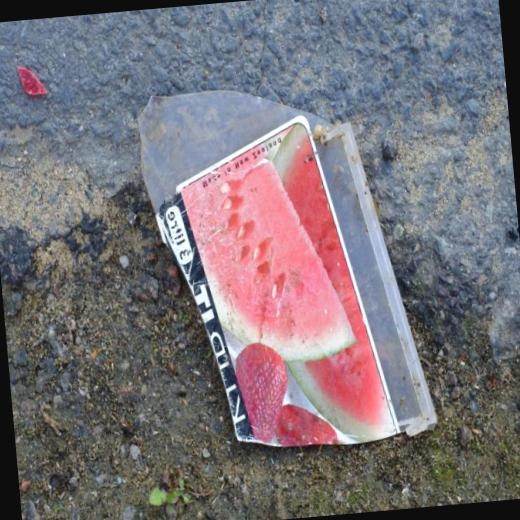Cherry: (266, 116, 398, 450), (175, 137, 361, 370)
